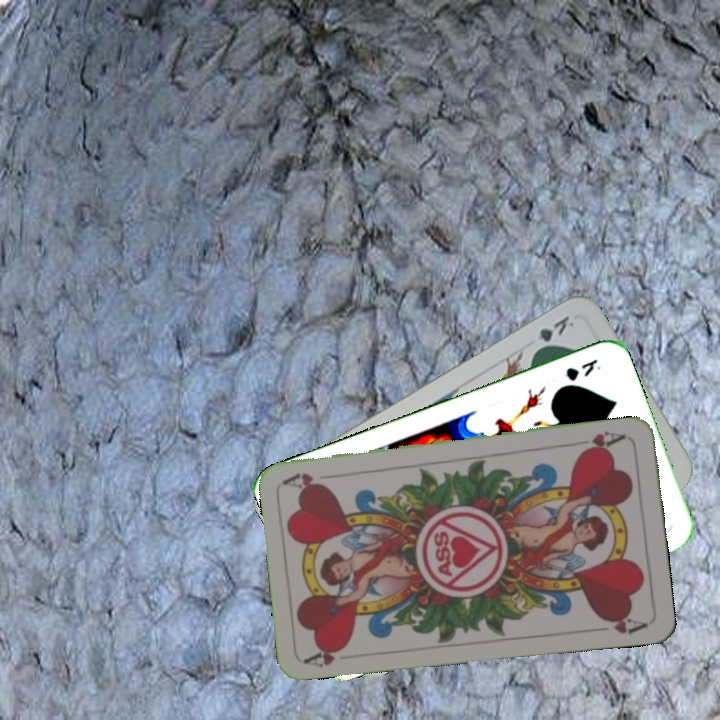GK: (529, 311, 577, 356), (559, 354, 603, 384)
HA: (571, 427, 629, 456), (301, 640, 350, 670)
